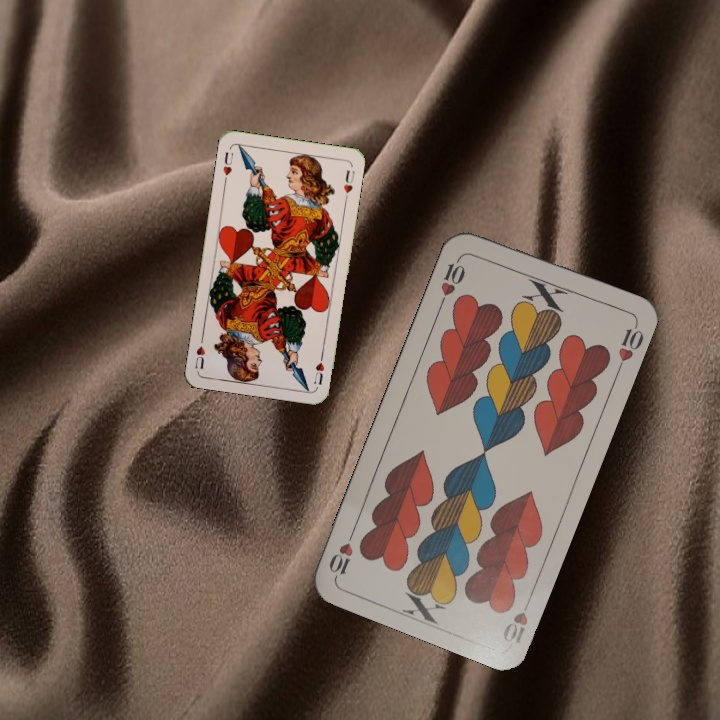H10: (498, 591, 535, 646), (436, 251, 468, 308)
HU: (310, 349, 327, 387), (219, 148, 236, 185)
